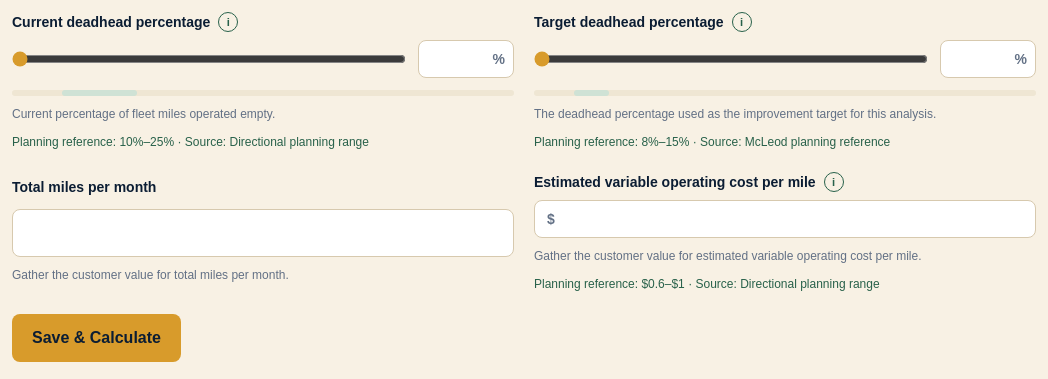
Scenario: AssessmentForm input stability › synchronizes valid percentage values between number field and slider
Type "14.5" into the field labelled "Current deadhead percentage" at (452, 59), box x1=419 y1=41 x2=484 y2=77
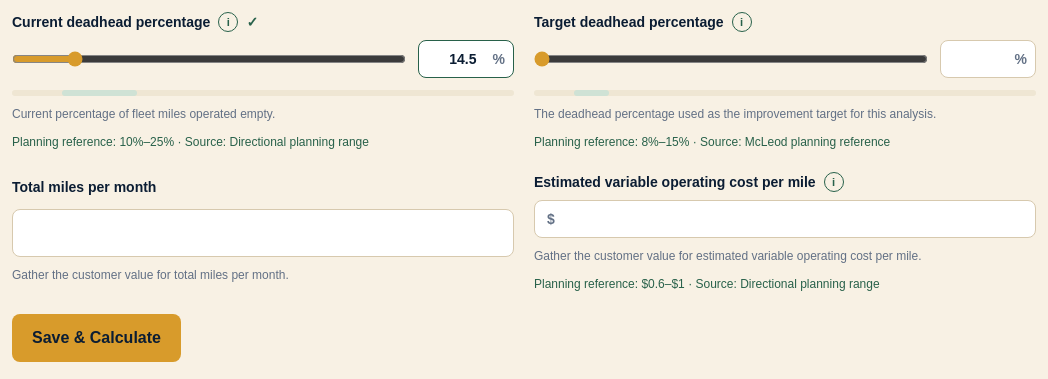
Expected: the slider named "Current deadhead percentage slider" holds "14.5"
Set the slider named "Current deadhead percentage slider" to "20" at (96, 59), box x1=12 y1=55 x2=406 y2=63
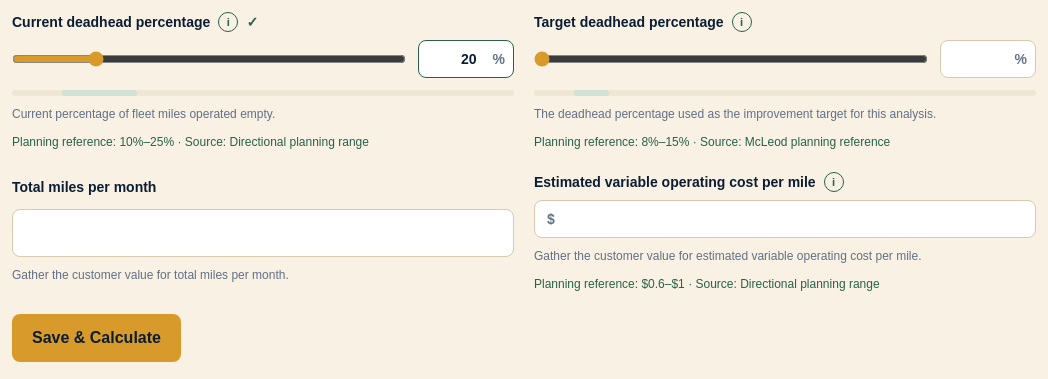
Expected: the field labelled "Current deadhead percentage" holds "20", x1=419 y1=41 x2=484 y2=77
